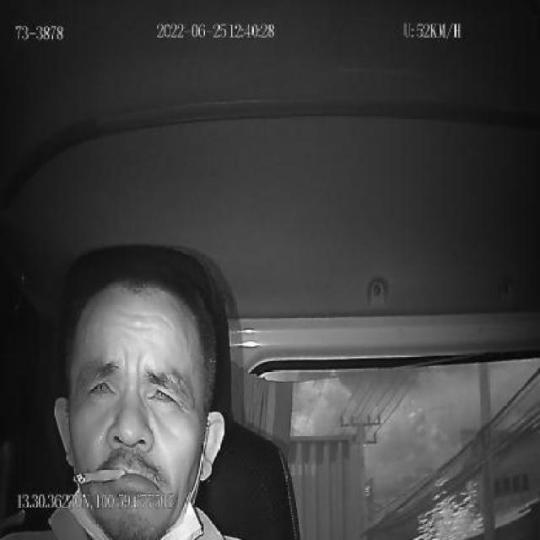smoking: (73, 466, 125, 486)
